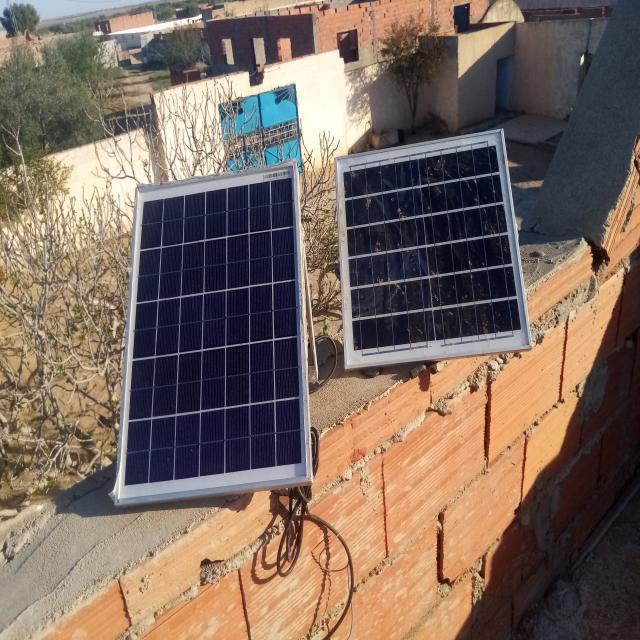Normal Solar Panel: (116, 162, 311, 502)
